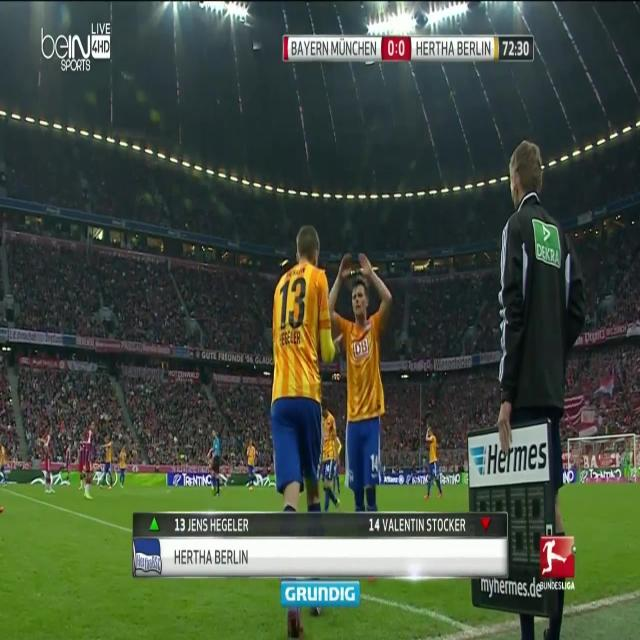Player: (268, 219, 334, 509), (326, 246, 394, 513), (321, 398, 341, 510), (420, 421, 445, 500), (81, 418, 96, 502), (42, 427, 54, 496), (100, 431, 114, 489), (244, 437, 257, 490), (117, 442, 128, 489), (64, 440, 73, 487)
Referee: (205, 427, 222, 497)
